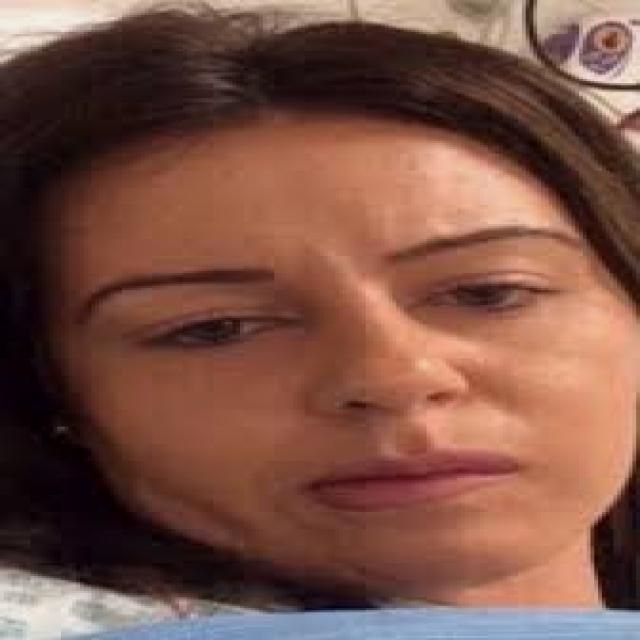stroke_face: (9, 38, 638, 590)
